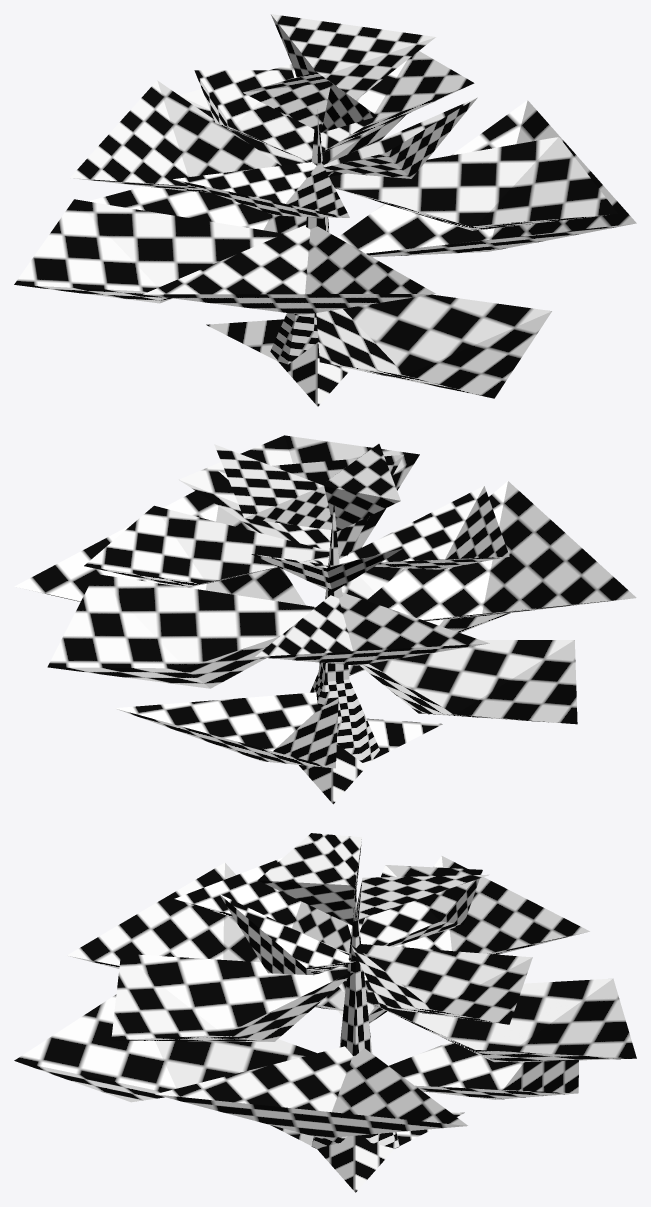
Rendered from naflbu12.dae.
The picture shows the model from 3 angles, top to bottom: view 1: azimuth 30°, elevation 25°; view 2: azimuth 150°, elevation 25°; view 3: azimuth 270°, elevation 25°; orthographic projection. The views are drawn at different scales.
Visible parts, largest first — view 1: crown; view 2: crown; view 3: crown.
Boxes of the visible parts, x1,y1,x2,y2 form: crown: (14,14,636,406); crown: (14,435,636,804); crown: (14,833,636,1192).
Size of the model in its own units: 1.29 by 1.31 by 0.6832.
Materials: 1 (1 with a texture image).
